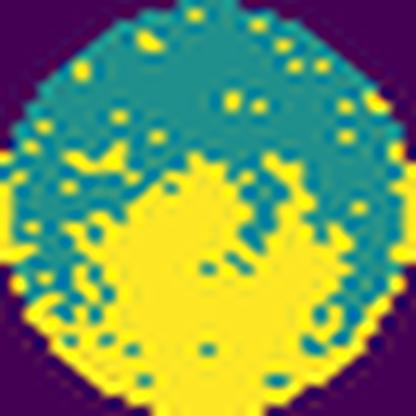Loc: (27, 149, 399, 414)
